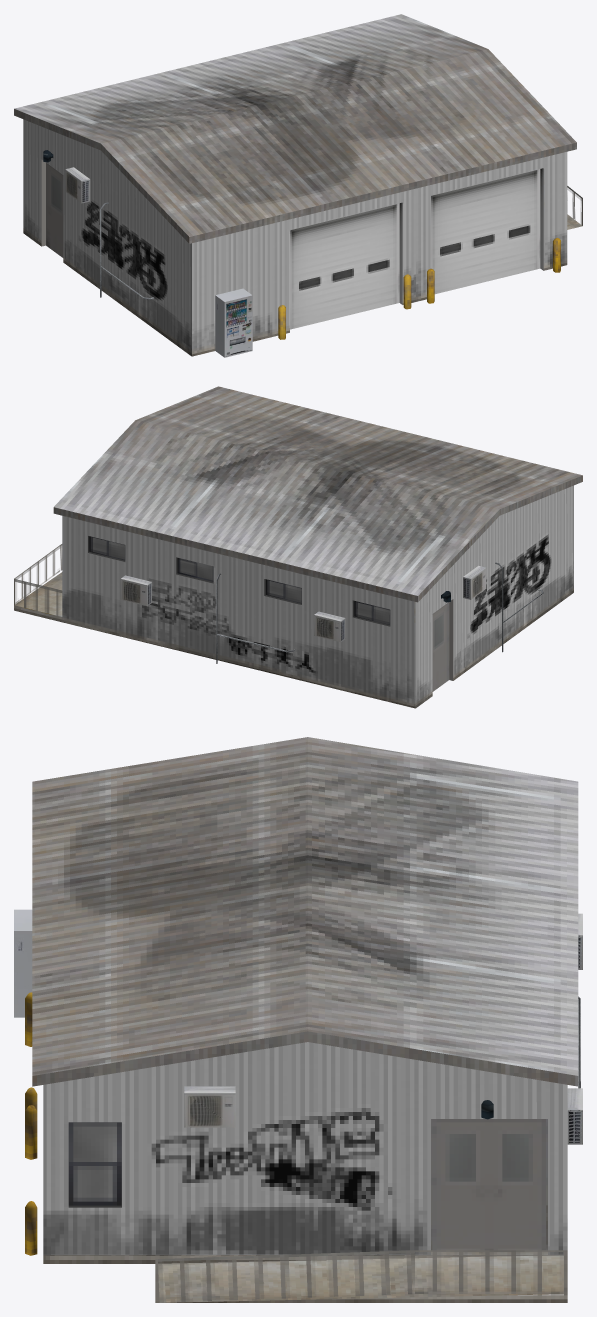
Rendered from psx_japanese_warehouse.glb.
The picture shows the model from 3 angles, top to bottom: view 1: azimuth 30°, elevation 25°; view 2: azimuth 150°, elevation 25°; view 3: azimuth 270°, elevation 25°; orthographic projection. The views are drawn at different scales.
Visible parts, largest first — view 1: jp_warehouse; view 2: jp_warehouse; view 3: jp_warehouse.
Boxes of the visible parts, x1=… form: jp_warehouse: x1=14, y1=14, x2=582, y2=357; jp_warehouse: x1=14, y1=386, x2=582, y2=708; jp_warehouse: x1=14, y1=737, x2=582, y2=1302.
Bounding box in the file's own units: 17.59 × 5.87 × 12.77.
Materials: 2 (2 with a texture image).
